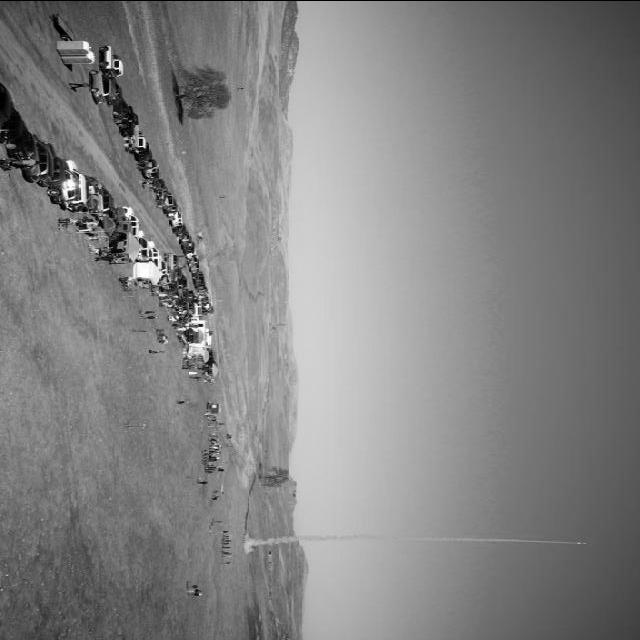Missile: (572, 538, 592, 545)
